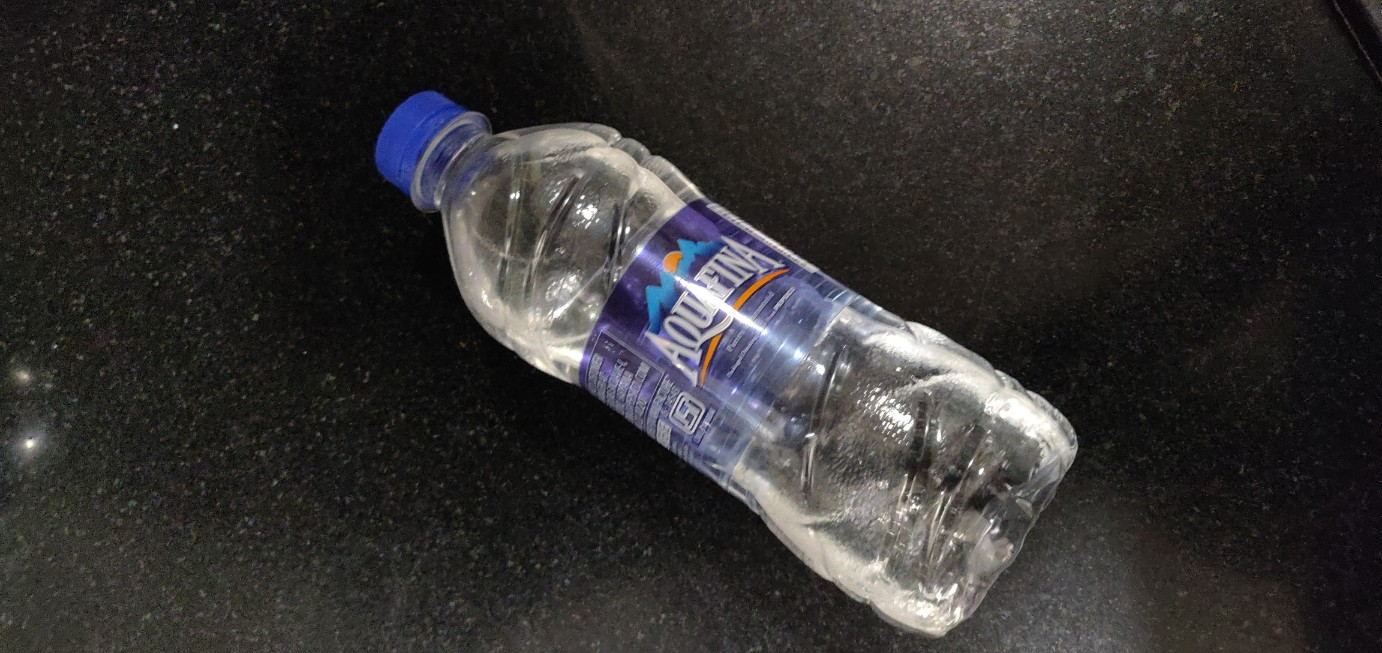Electronics: (324, 79, 1113, 648)
